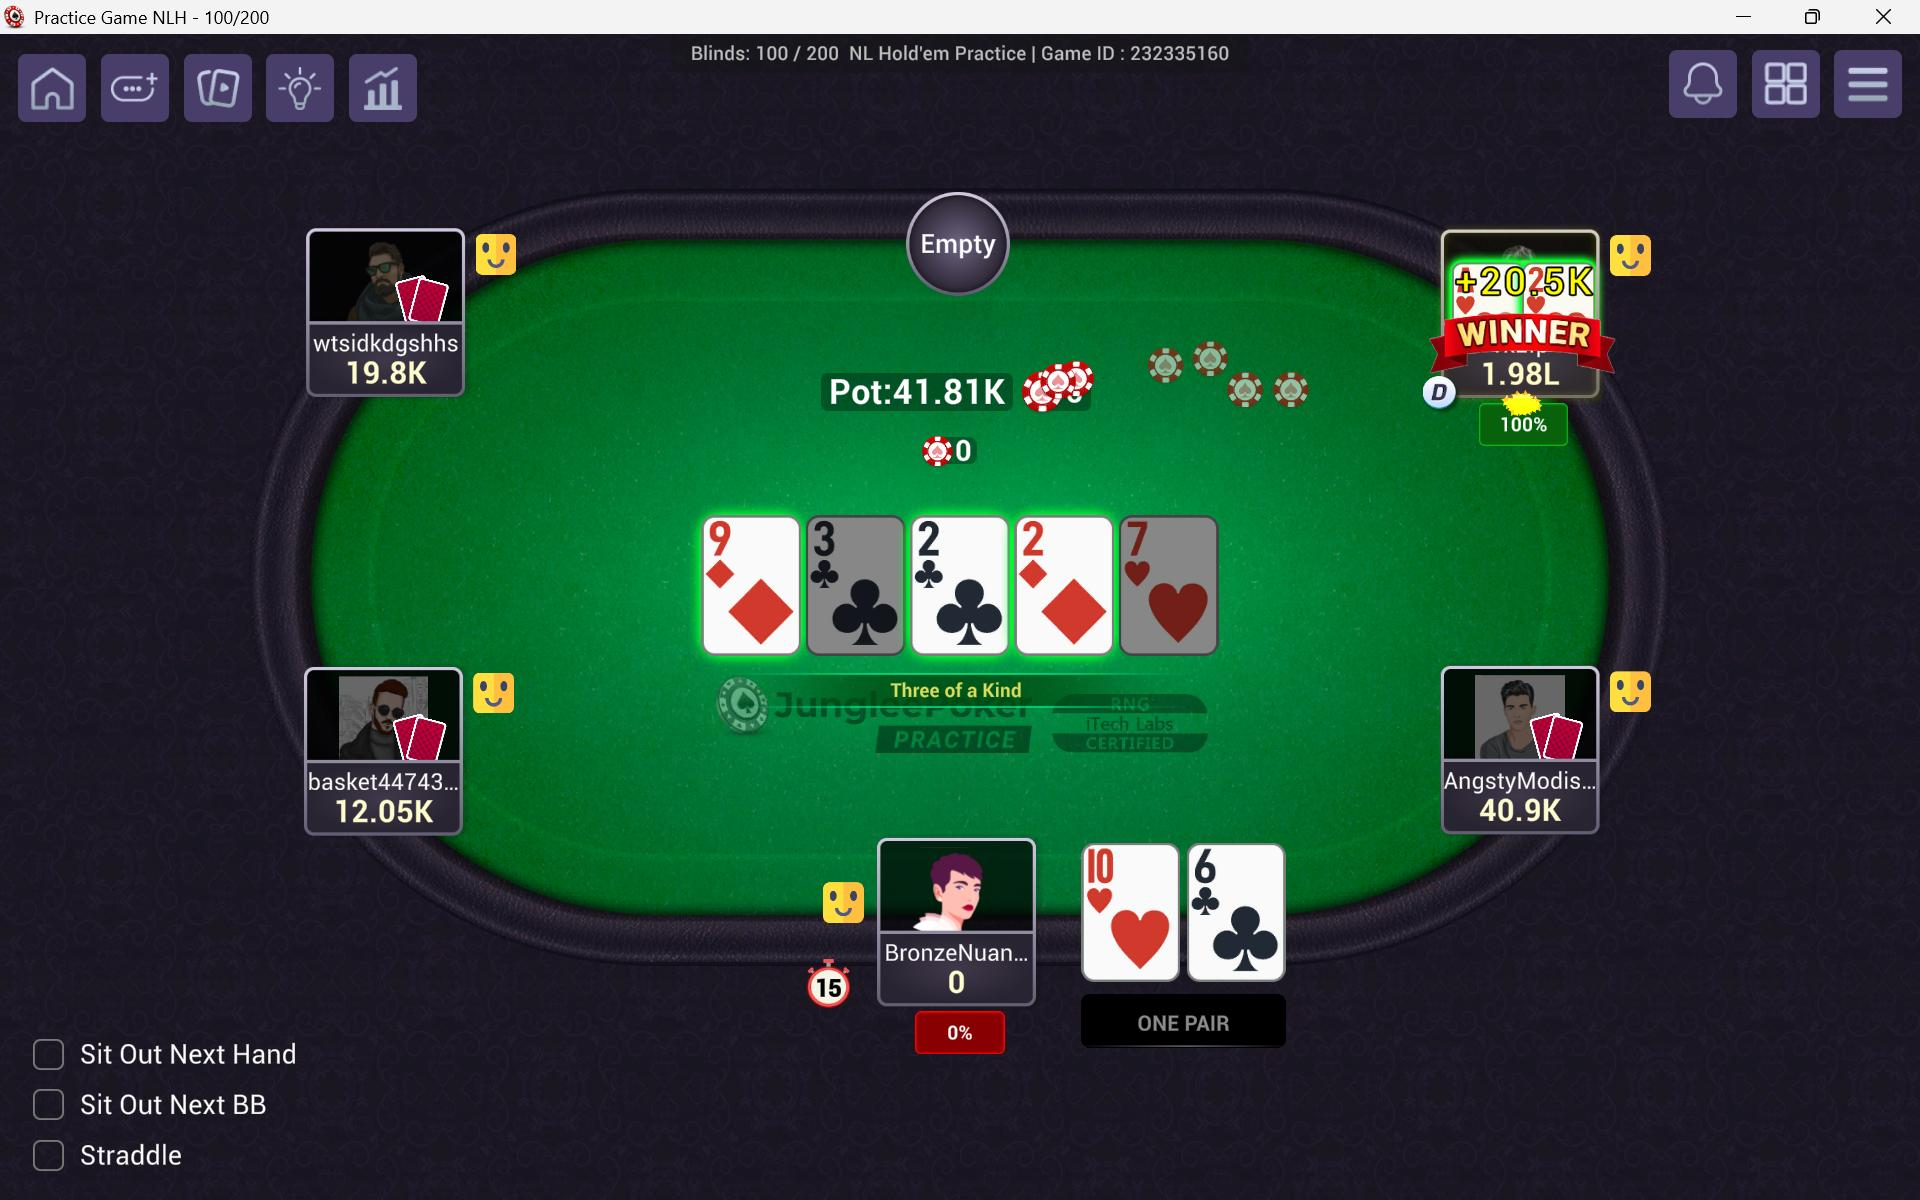card1_rank: (1086, 849, 1161, 893)
card1_suite_heart: (1099, 888, 1174, 977)
card2_rank: (1190, 846, 1266, 888)
card2_suite_club: (1208, 898, 1284, 974)
flop1_rank: (705, 520, 765, 565)
flop1_suite_diamond: (720, 572, 798, 650)
flop2_rank: (802, 520, 895, 562)
flop2_suite_club: (822, 570, 895, 650)
flop3_rank: (915, 520, 980, 562)
flop3_suite_diamond: (922, 562, 1005, 652)
game_id: (1037, 38, 1260, 88)
my_stack: (892, 965, 1035, 1005)
river_rank: (1120, 518, 1188, 562)
river_suite_heart: (1142, 570, 1218, 648)
total_pot: (828, 372, 1017, 415)
turn_rank: (1018, 515, 1065, 568)
turn_suite_diamond: (1030, 568, 1112, 650)
villian1_name: (302, 765, 470, 792)
villian1_stack: (322, 800, 448, 830)
villian2_name: (308, 322, 465, 355)
villian2_stack: (332, 358, 438, 398)
villian5_name: (1440, 763, 1607, 794)
villian5_stack: (1469, 789, 1576, 828)
winner: (1445, 232, 1605, 398)
